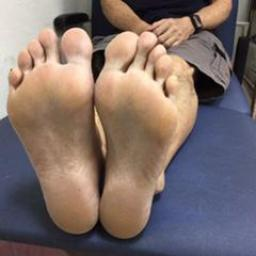Plantar View -Both Feet-: (5, 17, 187, 244)
